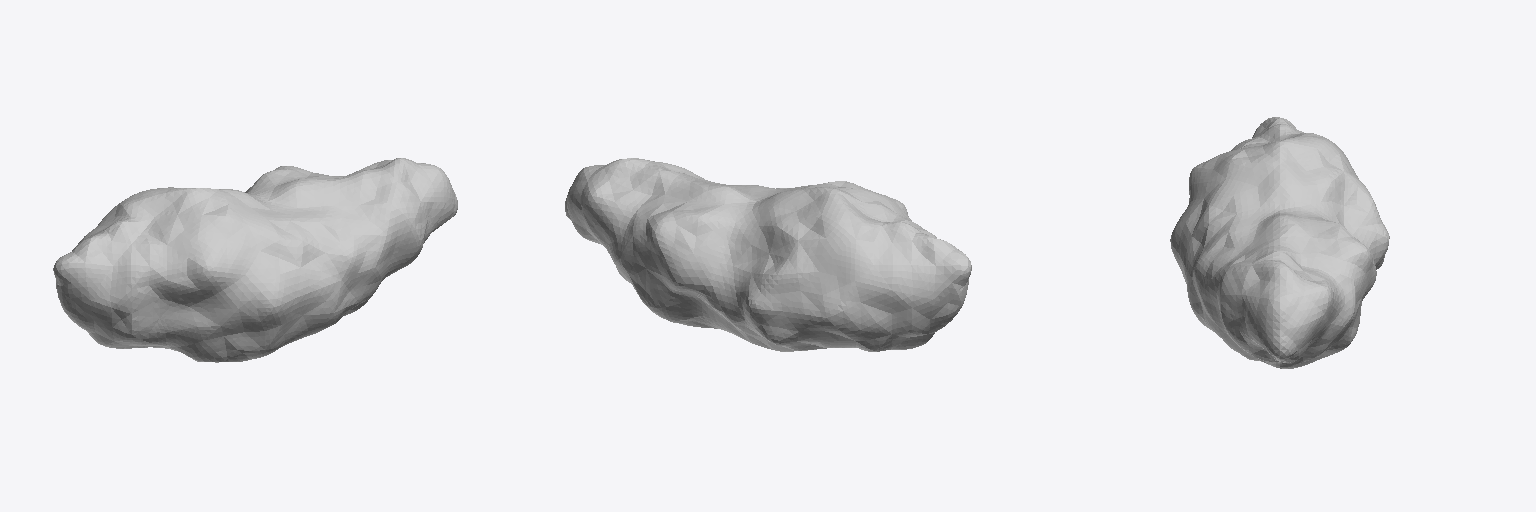
The model's file is Geographos.obj.
3 views of the same model, side by side, from view 1: azimuth 30°, elevation 25°; view 2: azimuth 150°, elevation 25°; view 3: azimuth 270°, elevation 25° (orthographic).
Visible parts, largest first — view 1: 1620geographos; view 2: 1620geographos; view 3: 1620geographos.
Boxes of the visible parts, x1=… form: 1620geographos: x1=53, y1=158, x2=457, y2=362; 1620geographos: x1=565, y1=158, x2=971, y2=351; 1620geographos: x1=1170, y1=117, x2=1389, y2=368.
Size of the model in its own units: 5.11 by 2 by 2.41.